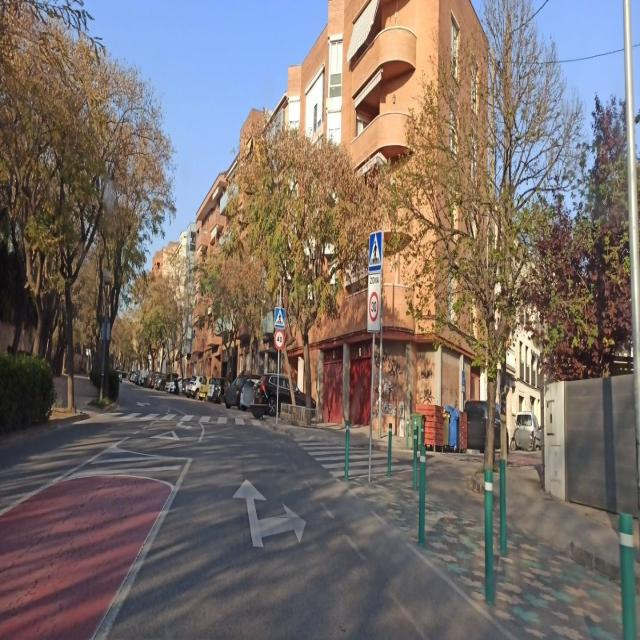car: (265, 373, 315, 411), (510, 411, 542, 452), (224, 375, 247, 408), (188, 376, 209, 400), (208, 378, 227, 402), (166, 376, 180, 395), (138, 370, 148, 386), (130, 370, 138, 382), (121, 369, 128, 380)
